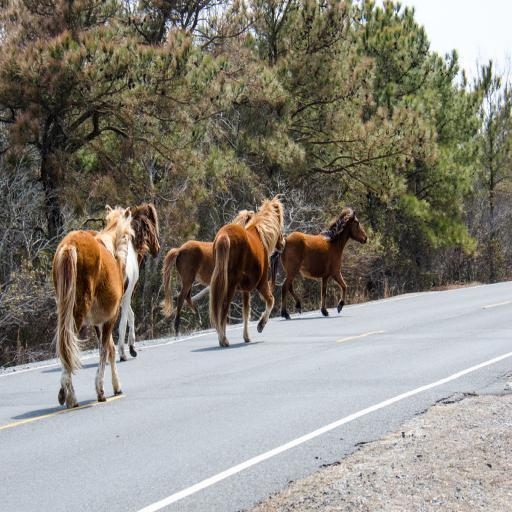horse: (48, 200, 138, 410), (158, 208, 256, 336), (85, 200, 162, 362), (208, 192, 286, 348), (268, 208, 370, 318)
